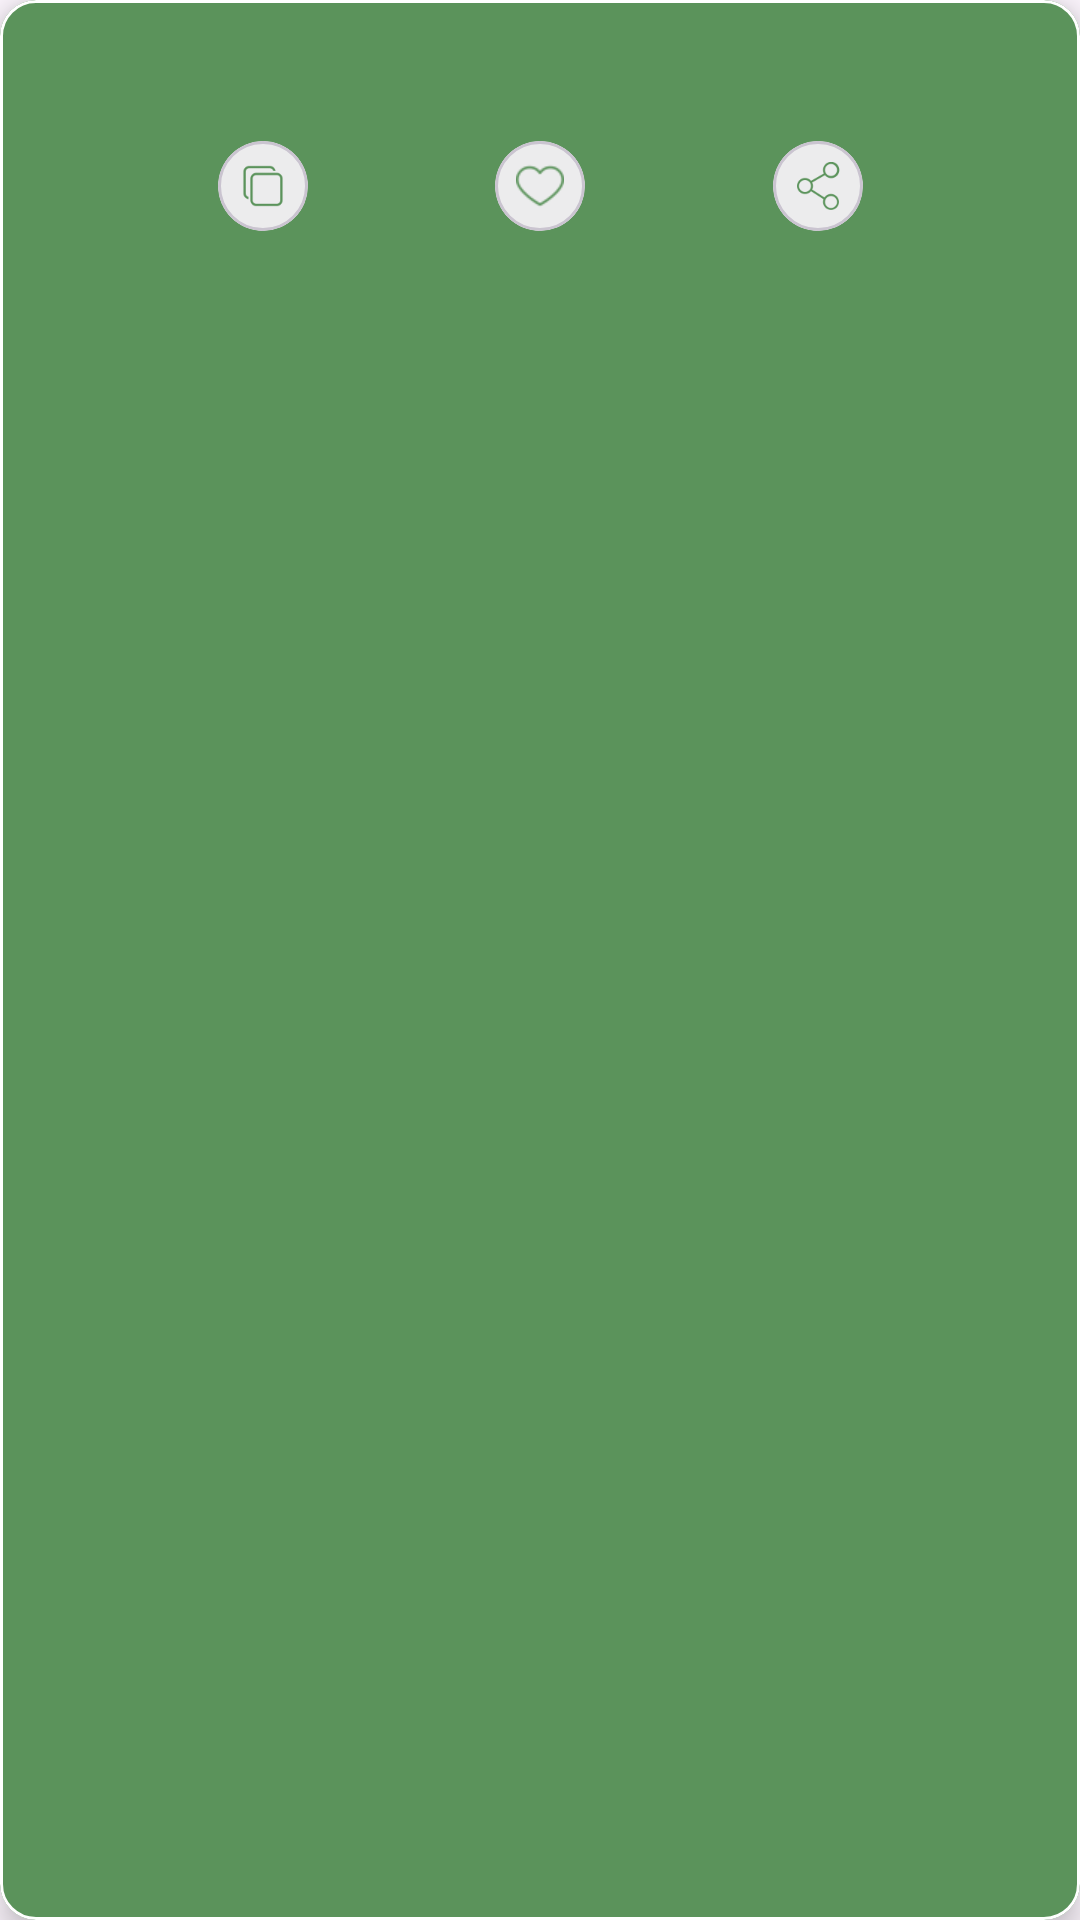

Icon bounding boxes for this 1080 × 1920 phone screenshot, format bbox=(x1, y1, x2, y2):
share: bbox=(797, 162, 840, 210)
